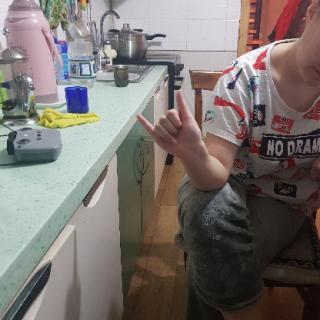YA: (134, 90, 208, 161)
